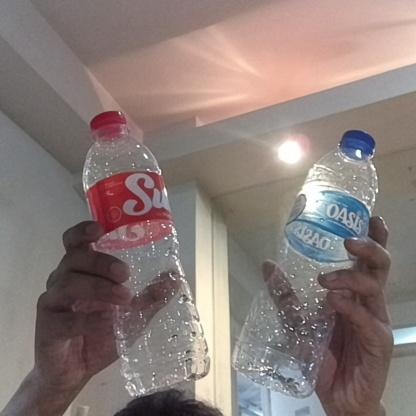plastic_bottles: (228, 127, 379, 400), (81, 106, 213, 397)
